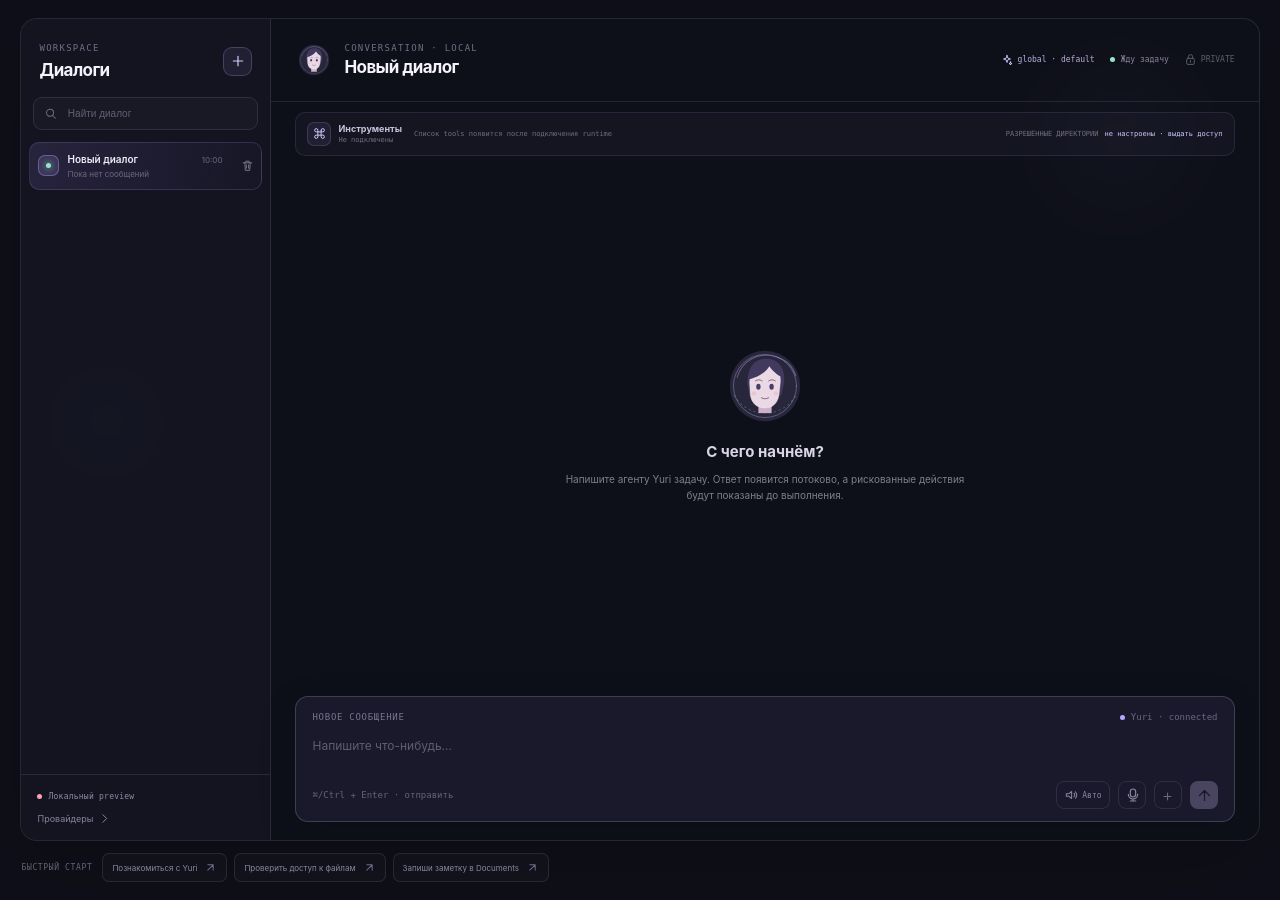
Test: ChatView conversation deletion › confirms hiding the selected transcript and opens a fresh conversation when it was the last one
This screenshot has width=1280, height=900.
Check: the heading "Новый диалог" is shown, box [344,57,459,77]
Click the button named "Удалить диалог «Новый диалог»": (248, 166) [234,143,262,189]
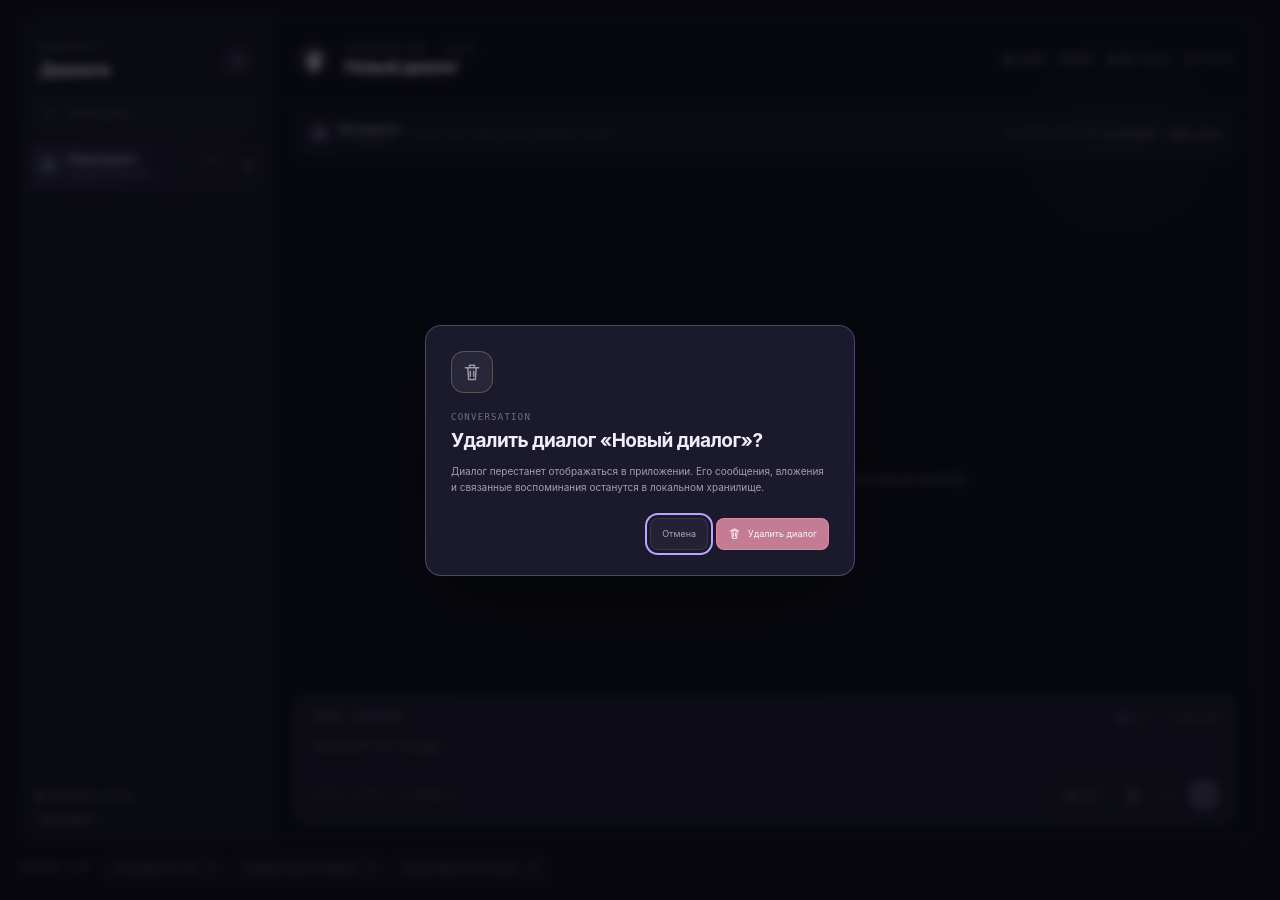
Check: the dialog "Удалить диалог «Новый диалог»?" shows "сообщения, вложения и связанные воспоминания останутся", box [451,464,824,493]
Click the button "Удалить диалог": (772, 534) [716,518,829,550]
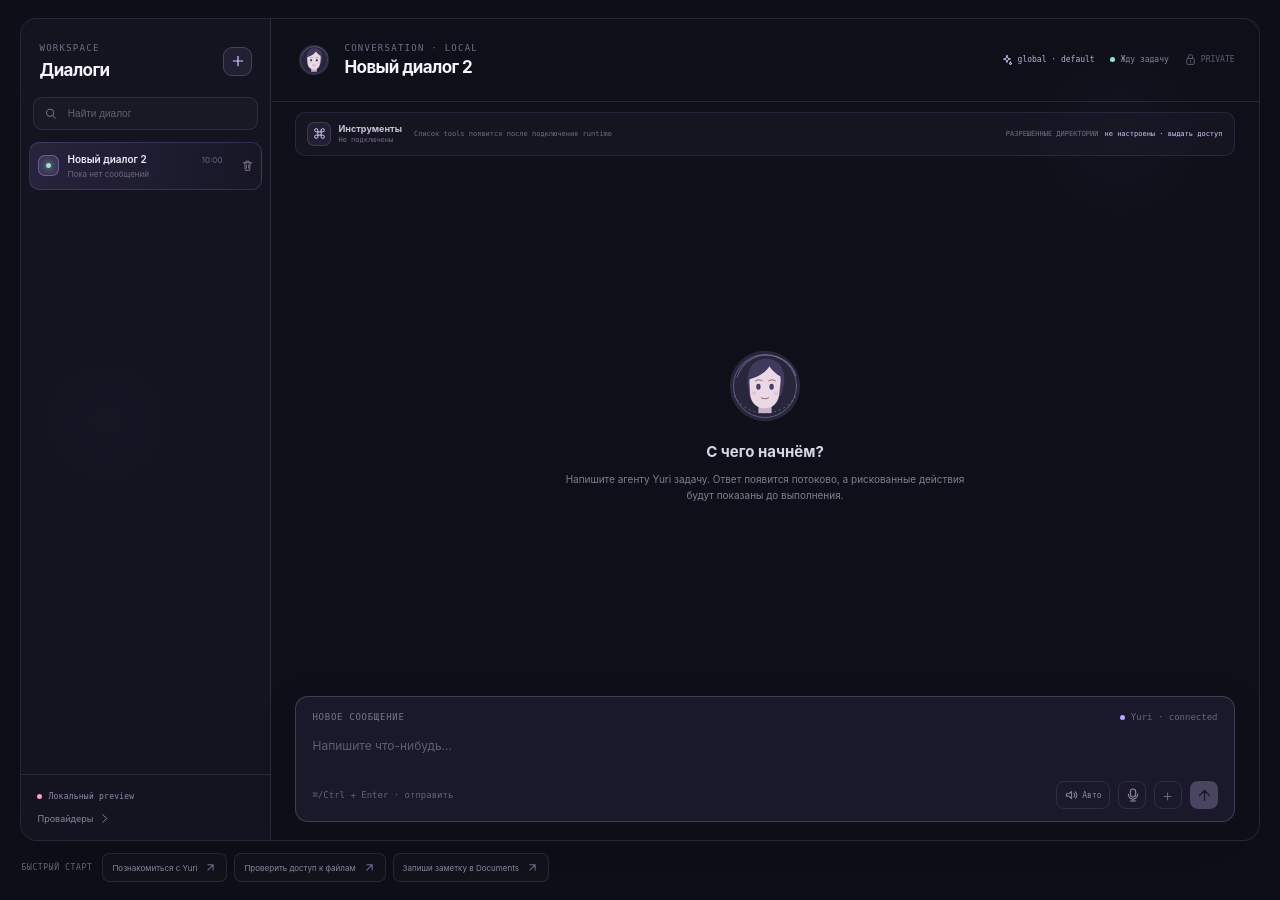
Check: the heading "Новый диалог 2" is shown, box [344,57,472,77]
